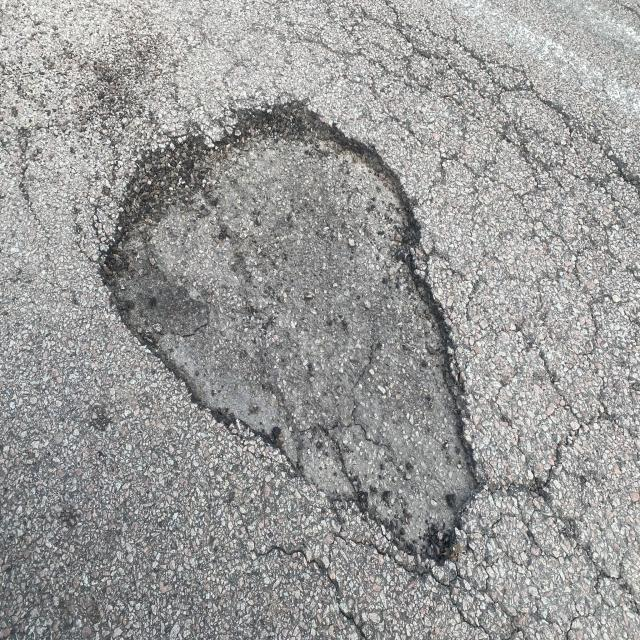Pothole: (87, 106, 555, 564)
